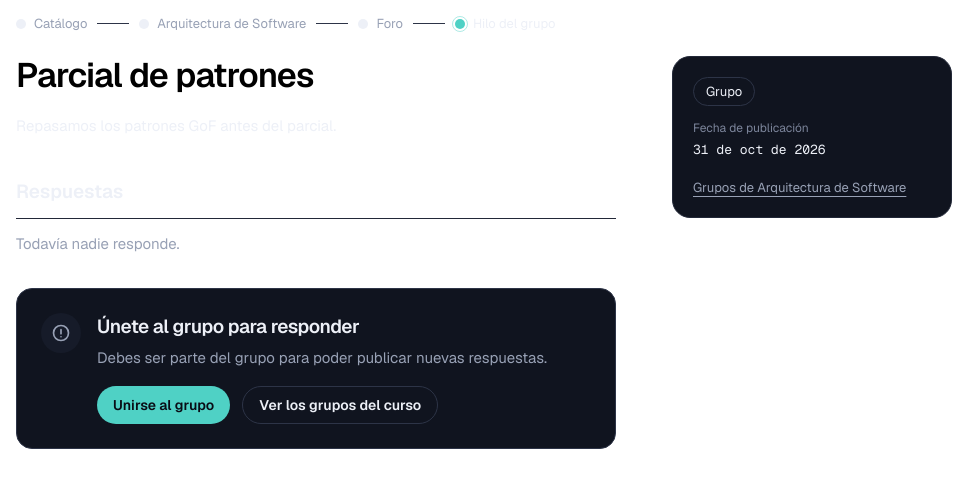
Test: El hilo de un grupo de estudio › si unirse desde el hilo falla, lo dice y la invitación sigue ahí
Expected: the heading "Parcial de patrones" is shown, [16,52,314,96]
Click the button "Unirse al grupo" at (164, 405), box [97,386,230,424]
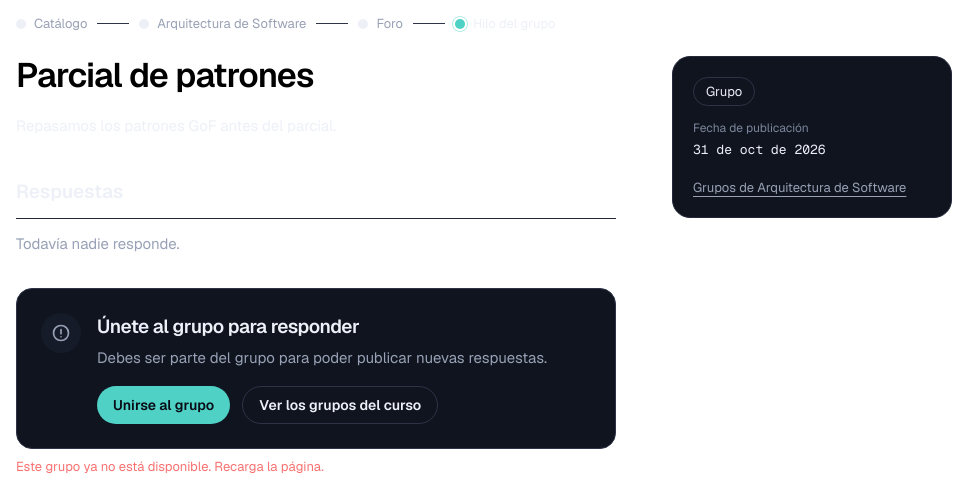
Expected: the message "Este grupo ya no está disponible. Recarga la página." is shown, [16,458,324,475]
